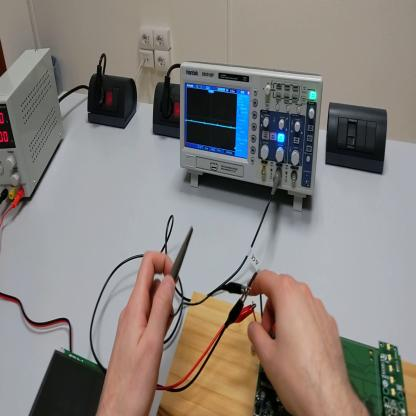hand: (248, 268, 353, 413), (96, 252, 180, 415)
low voltage board: (249, 273, 411, 416)
oscilloscope: (176, 62, 324, 210)
oscilloscope probe tip: (171, 227, 193, 278)
power supply: (2, 46, 63, 200)
socket: (87, 70, 139, 130), (153, 82, 181, 139)
working area: (151, 292, 415, 415)
